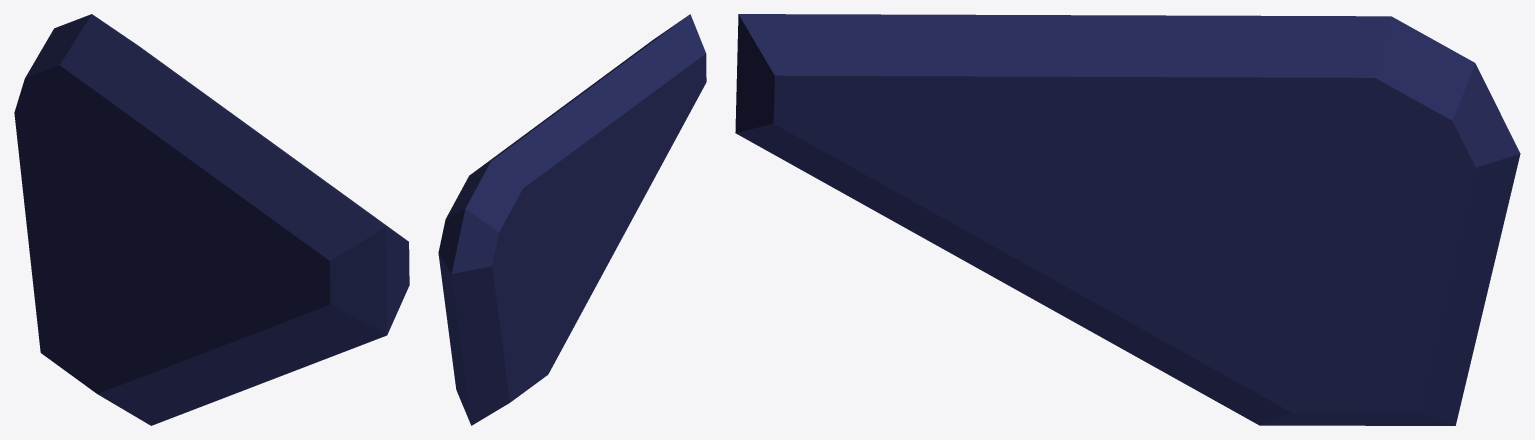
Rendered from weapon_pist_deagle_physics.gltf.
3 renders of one model, left to right at view 1: azimuth 30°, elevation 25°; view 2: azimuth 150°, elevation 25°; view 3: azimuth 270°, elevation 25°, orthographic. The views are drawn at different scales.
Visible parts, largest first — view 1: physics_group_weaponpistol; view 2: physics_group_weaponpistol; view 3: physics_group_weaponpistol.
Boxes of the visible parts, x1,y1,x2,y2 form: physics_group_weaponpistol: (14, 14, 409, 425); physics_group_weaponpistol: (438, 14, 706, 425); physics_group_weaponpistol: (735, 14, 1520, 425).
Bounding box in the file's own units: 0.0381 × 0.1707 × 0.2947.
1 material, 1 textured.
